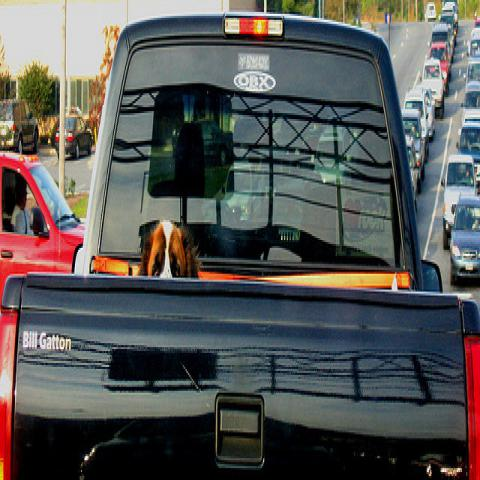car: (0, 0, 463, 179), (0, 147, 88, 306), (440, 154, 477, 252), (448, 194, 480, 288), (54, 114, 95, 160), (456, 121, 479, 196), (427, 22, 452, 81), (406, 133, 424, 212), (428, 40, 449, 94), (462, 89, 479, 125), (462, 56, 480, 90), (467, 27, 479, 58), (424, 1, 438, 20)
truck: (0, 11, 480, 471), (402, 107, 426, 194), (422, 55, 444, 118)
